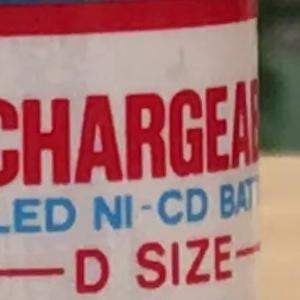NI-CD: (78, 178, 228, 262)
